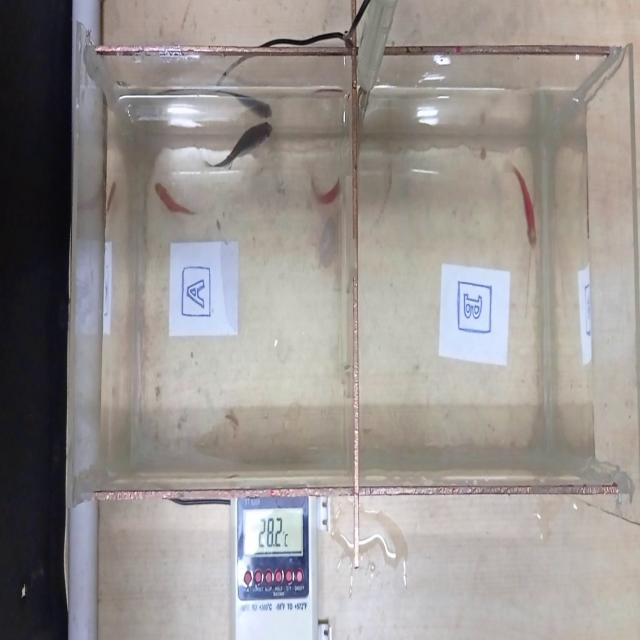Fish A1: (202, 106, 277, 187)
Fish A2: (149, 172, 194, 231)
Fish A3: (302, 162, 352, 218)
Fish B: (503, 146, 548, 264)
